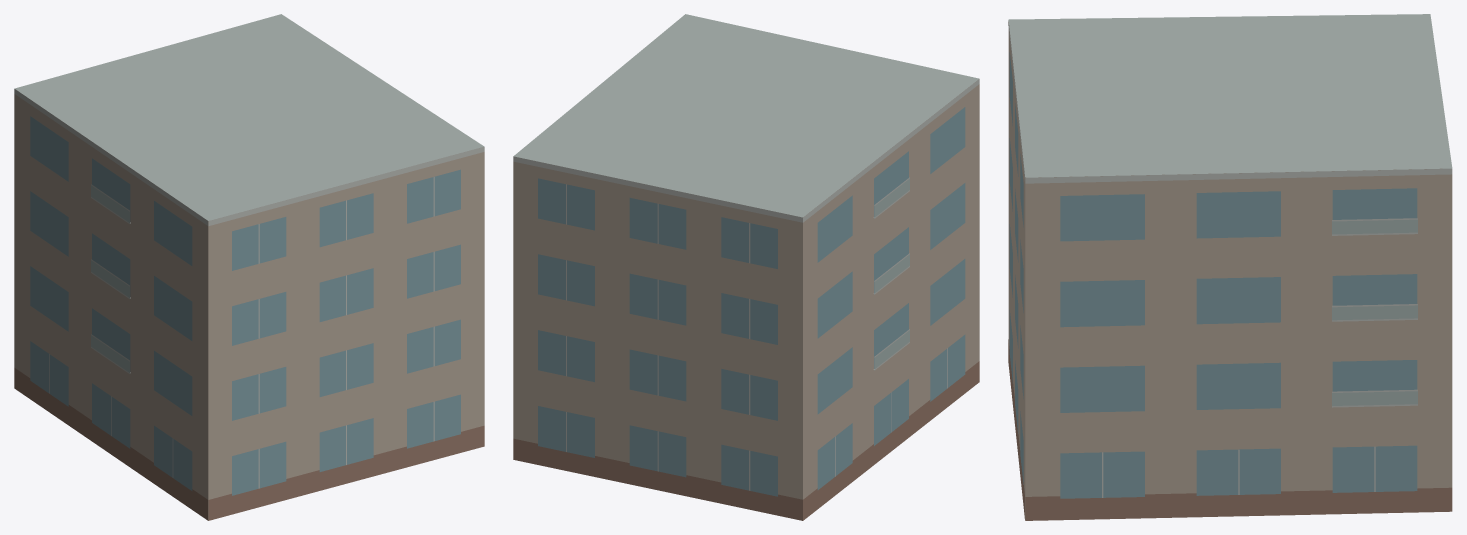
The model's file is survey-upis-32644871.glb.
The picture shows the model from 3 angles, left to right: view 1: azimuth 30°, elevation 25°; view 2: azimuth 150°, elevation 25°; view 3: azimuth 270°, elevation 25°; orthographic projection. The views are drawn at different scales.
Visible parts, largest first — view 1: survey-upis-32644871.tmp; view 2: survey-upis-32644871.tmp; view 3: survey-upis-32644871.tmp.
Boxes of the visible parts, x1,y1,x2,y2 form: survey-upis-32644871.tmp: [14, 14, 484, 520]; survey-upis-32644871.tmp: [513, 14, 979, 520]; survey-upis-32644871.tmp: [1008, 14, 1452, 520].
Size of the model in its own units: 14.44 by 14.1 by 16.54.
